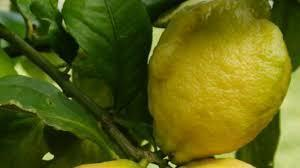lemon: (147, 0, 292, 166)
